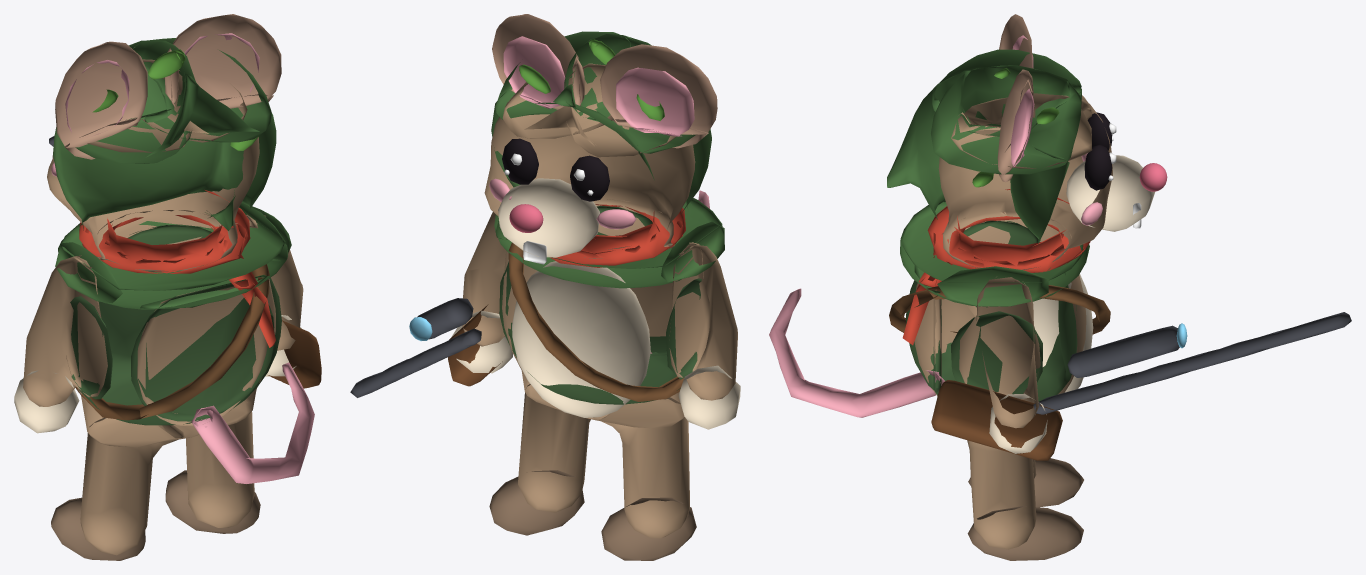
File: champ_sniper.glb
3 renders of one model, left to right at view 1: azimuth 30°, elevation 25°; view 2: azimuth 150°, elevation 25°; view 3: azimuth 270°, elevation 25°, orthographic. The views are drawn at different scales.
Parts seen in each view (by area): view 1: head, tail, earL, armL, body, earR, legFL, legFR, armR, weapon; view 2: head, body, earL, armL, legFL, legFR, earR, armR, weapon; view 3: head, earR, weapon, armR, body, legFR, tail, earL, legFL.
Boxes of the visible parts, bbox=[...] form: head: bbox=[47, 47, 285, 290]; tail: bbox=[131, 274, 314, 483]; earL: bbox=[55, 40, 195, 163]; armL: bbox=[14, 242, 122, 433]; body: bbox=[58, 210, 287, 447]; earR: bbox=[132, 14, 281, 142]; legFL: bbox=[51, 417, 184, 560]; legFR: bbox=[165, 400, 260, 533]; armR: bbox=[241, 203, 303, 376]; weapon: bbox=[49, 135, 321, 388]; head: bbox=[484, 36, 721, 268]; body: bbox=[495, 199, 722, 428]; earL: bbox=[563, 34, 717, 157]; armL: bbox=[661, 221, 740, 429]; legFL: bbox=[593, 397, 696, 560]; legFR: bbox=[489, 384, 590, 535]; earR: bbox=[492, 14, 630, 138]; armR: bbox=[409, 212, 512, 373]; weapon: bbox=[350, 298, 502, 397]; head: bbox=[887, 70, 1167, 282]; earR: bbox=[931, 65, 1092, 174]; weapon: bbox=[931, 312, 1351, 460]; armR: bbox=[937, 266, 1187, 453]; body: bbox=[900, 200, 1110, 401]; legFR: bbox=[967, 440, 1083, 560]; tail: bbox=[769, 265, 941, 417]; earL: bbox=[932, 14, 1091, 136]; legFL: bbox=[968, 458, 1083, 507].
Bounding box in the file's own units: 2.91 × 5 × 5.48.
1 material, 1 textured.
